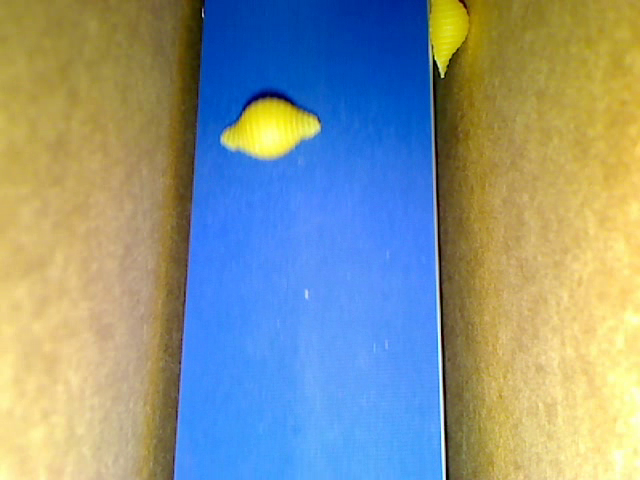shell: (221, 94, 323, 156), (428, 1, 474, 78)
